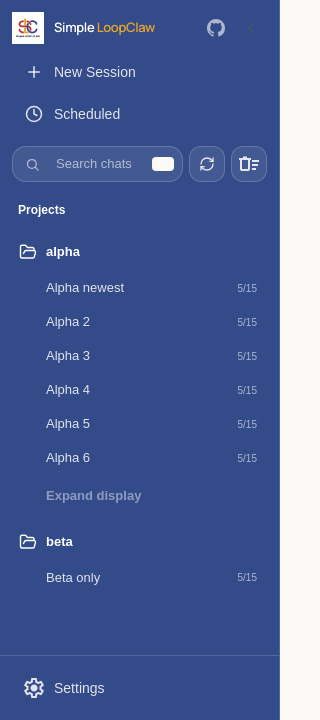
Sidebar › groups sessions by project and expands overflow rows
The image size is (320, 720).
Expected: the text "Projects" is shown, x1=18 y1=201 x2=65 y2=219
Expected: the text "alpha" is shown, x1=46 y1=244 x2=80 y2=259
Click the button "Expand display". click: (94, 496)
box: x1=46 y1=482 x2=141 y2=510
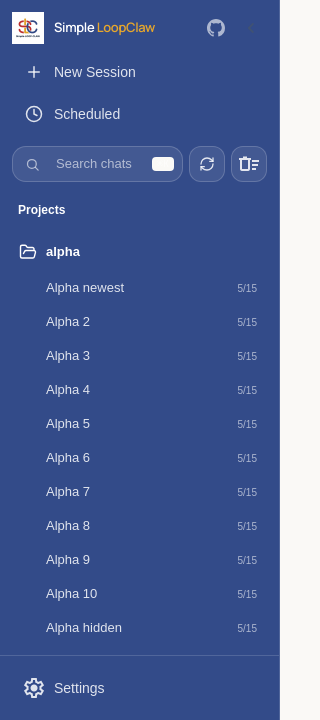
Expected: the button "Collapse display" is shown, x1=46 y1=652 x2=149 y2=680
Result: the button "Alpha hidden 5/15" is shown at x1=36 y1=612 x2=267 y2=644
